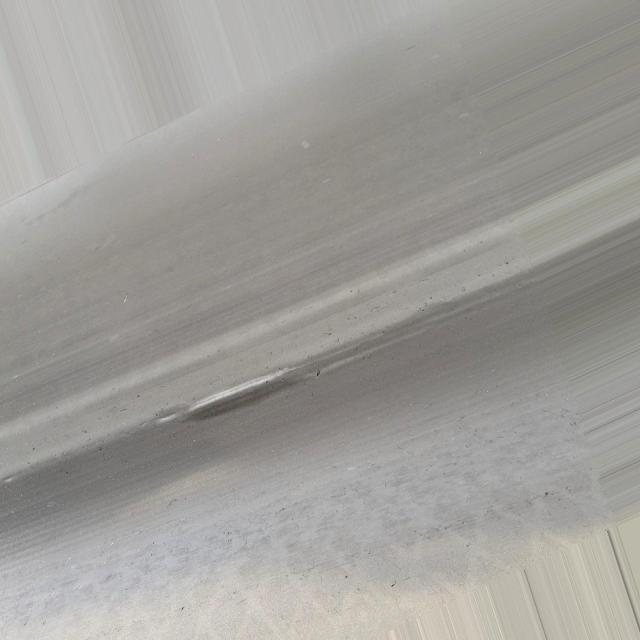impact damage: (144, 361, 329, 422)
